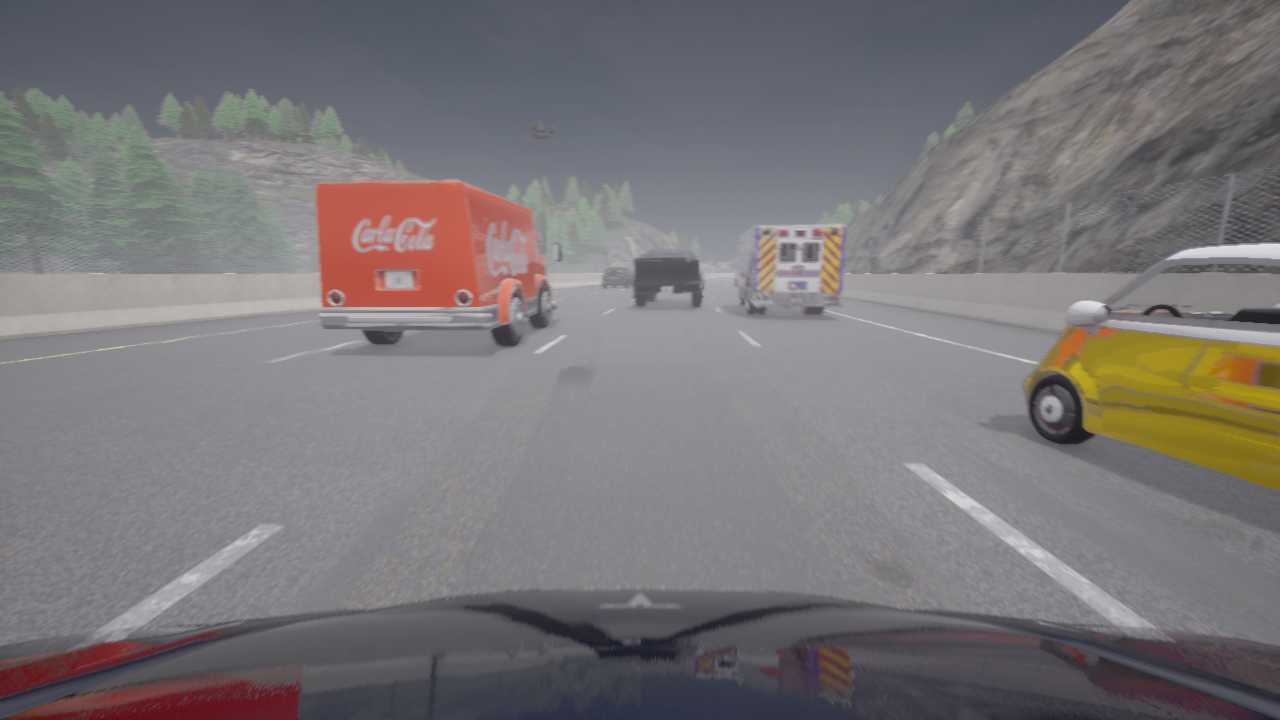cyclist: (0, 588, 1279, 719), (1023, 243, 1279, 489), (315, 180, 560, 346), (731, 224, 845, 314), (632, 250, 704, 307), (603, 268, 634, 287), (702, 273, 706, 289), (735, 272, 738, 286)
